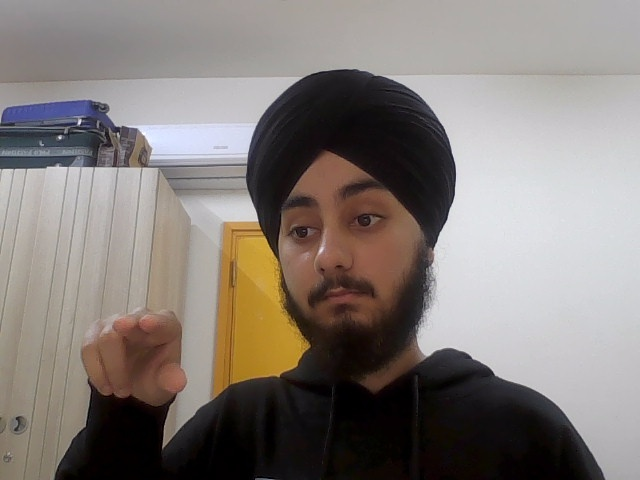No: (78, 300, 197, 416)
